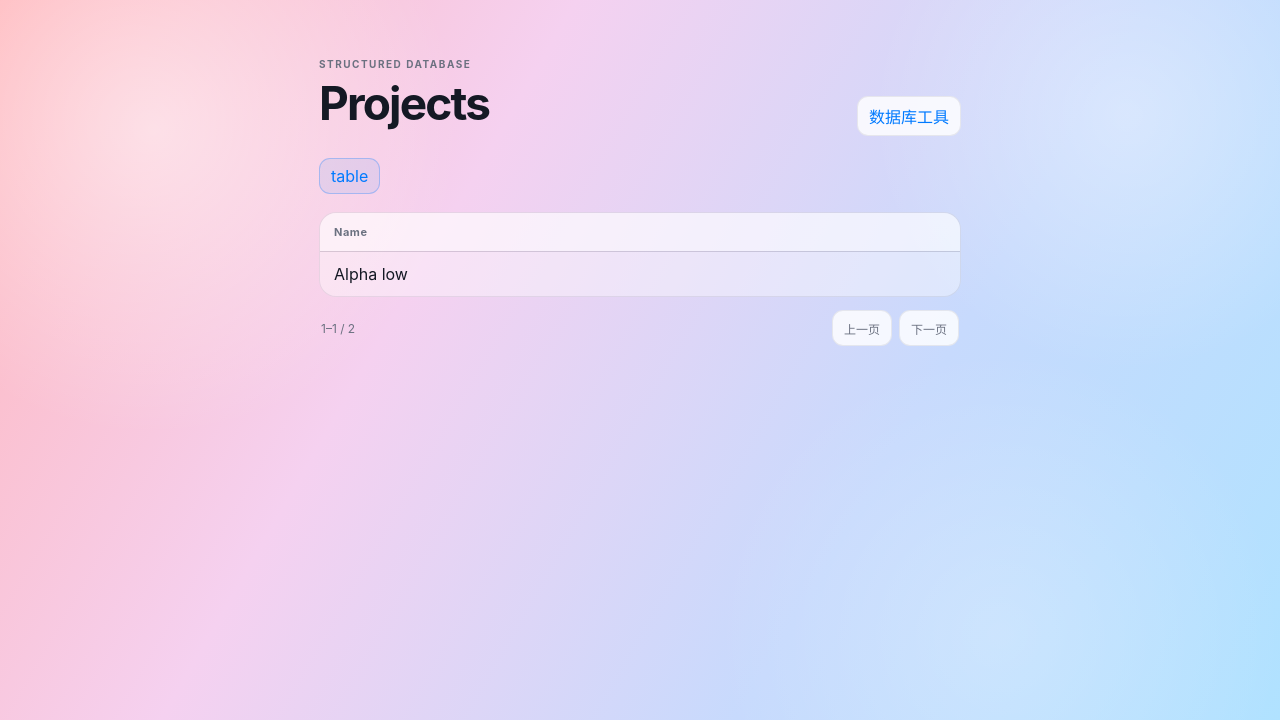
Test: Task 7 database web behavior › executes saved filters, sorts, visible columns, and page size against loaded records
Expected: the column heading "Name" is shown, [320,213,960,252]
Expected: the text "Alpha low" is shown, [320,252,960,296]
Click the button "下一页": (929, 328) [899,310,959,346]
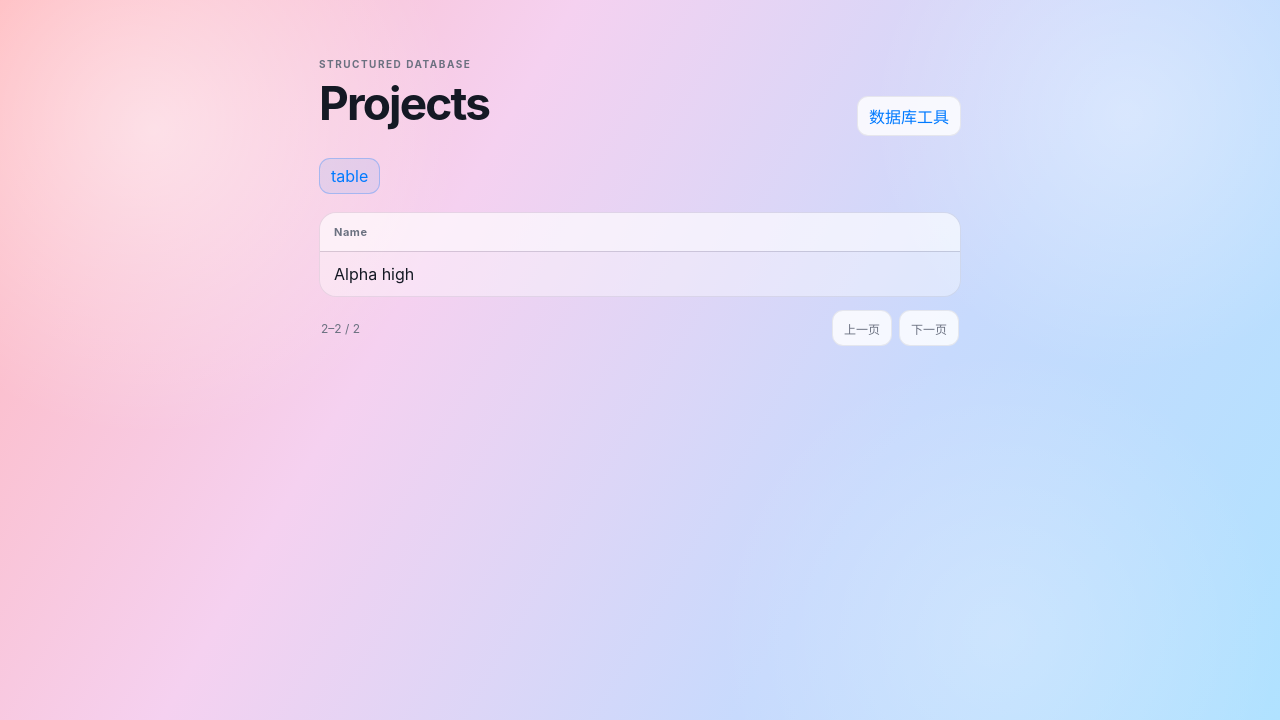
Now the text "Alpha high" is shown, box [320,252,960,296]
